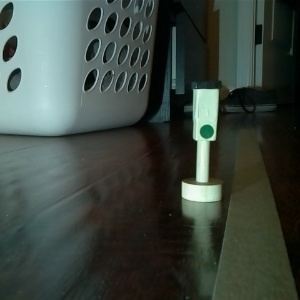traffic light green: (178, 78, 228, 205)
